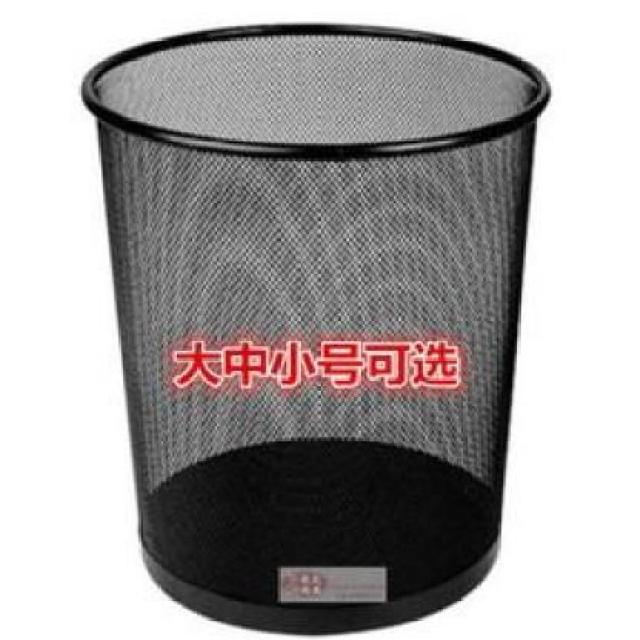dustbin: (76, 14, 556, 639)
